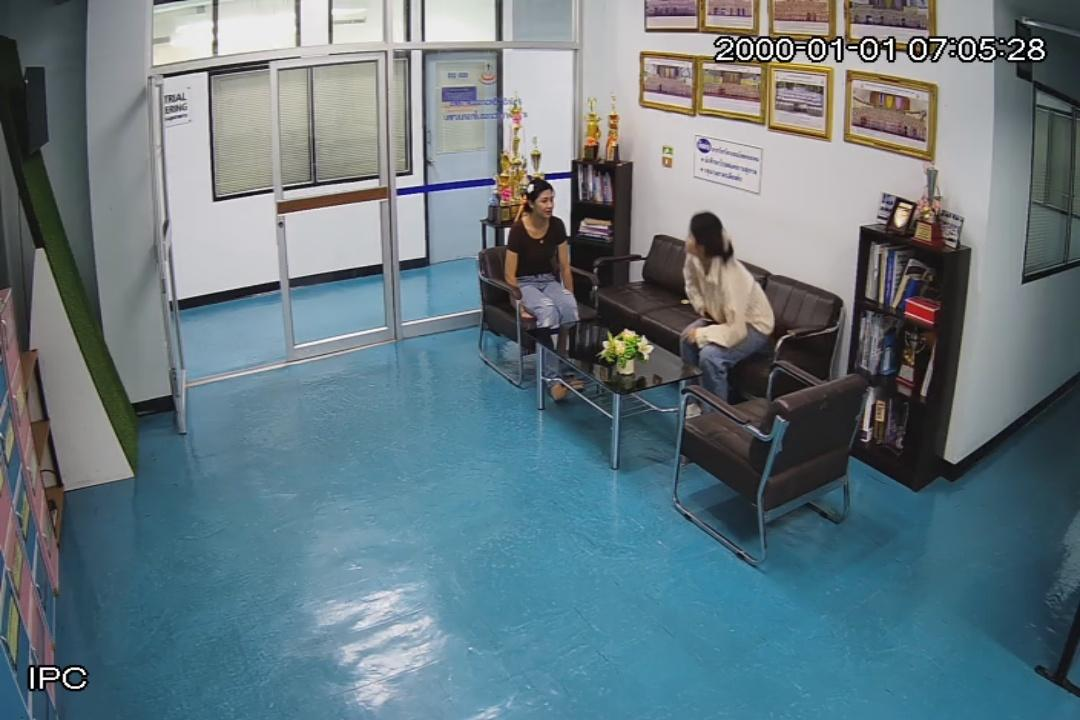normal: (679, 207, 776, 442), (506, 178, 580, 400)
